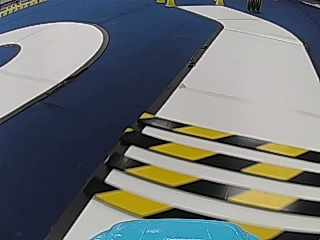bump: (95, 113, 319, 237)
